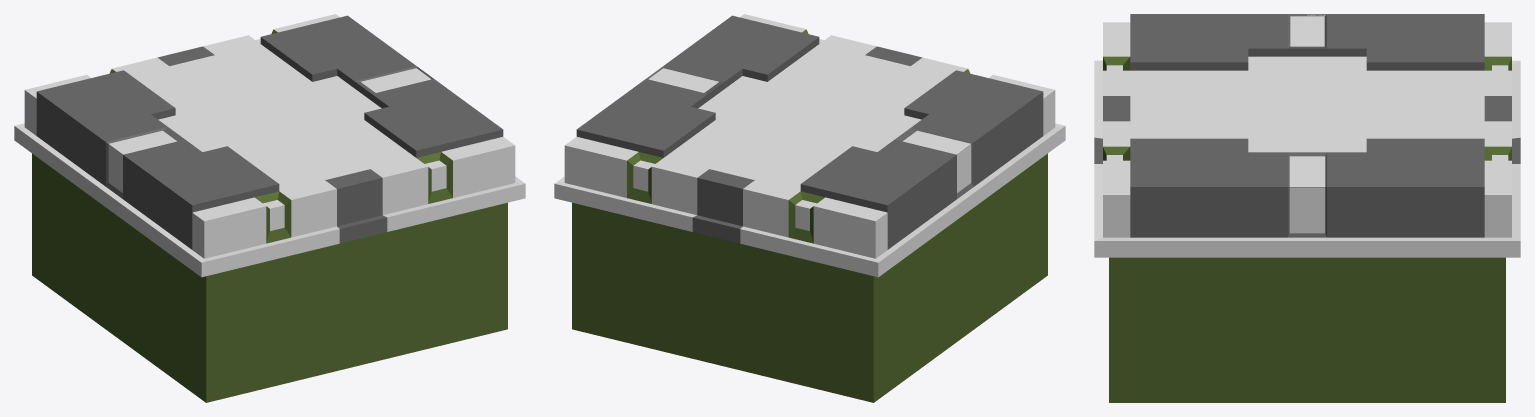
The model's file is Crate.fbx.
3 renders of one model, left to right at view 1: azimuth 30°, elevation 25°; view 2: azimuth 150°, elevation 25°; view 3: azimuth 270°, elevation 25°, orthographic. The views are drawn at different scales.
Visible parts, largest first — view 1: Crate; view 2: Crate; view 3: Crate.
Part boxes in pixels (<box>): Crate: <box>14,14,525,402</box>; Crate: <box>554,14,1065,402</box>; Crate: <box>1094,14,1520,402</box>.
Bounding box in the file's own units: 461 × 261 × 461.
